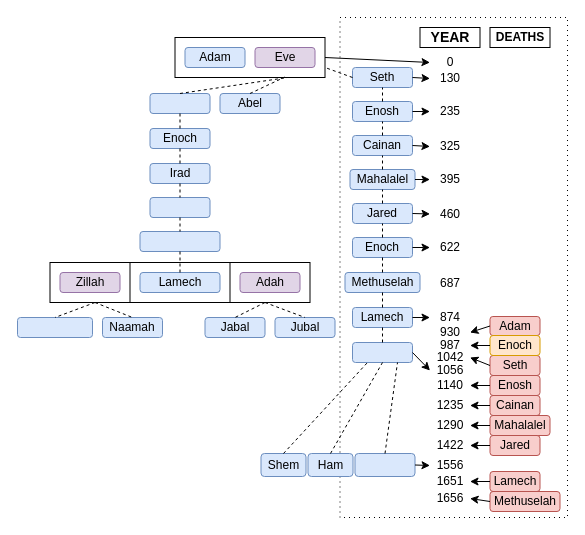
This 585x535 diagram has some shape labels left out. The shapes that lost their labels are listed below. From the top down, each one's box as (x1, y1, x2, y2) in pixels, then its label:
(149, 92, 210, 114): Cain
(149, 196, 210, 218): Mehujael
(139, 230, 220, 252): Methushael
(16, 316, 92, 338): Tubal-Cain
(352, 342, 412, 362): Noah
(354, 452, 415, 476): Japheth
